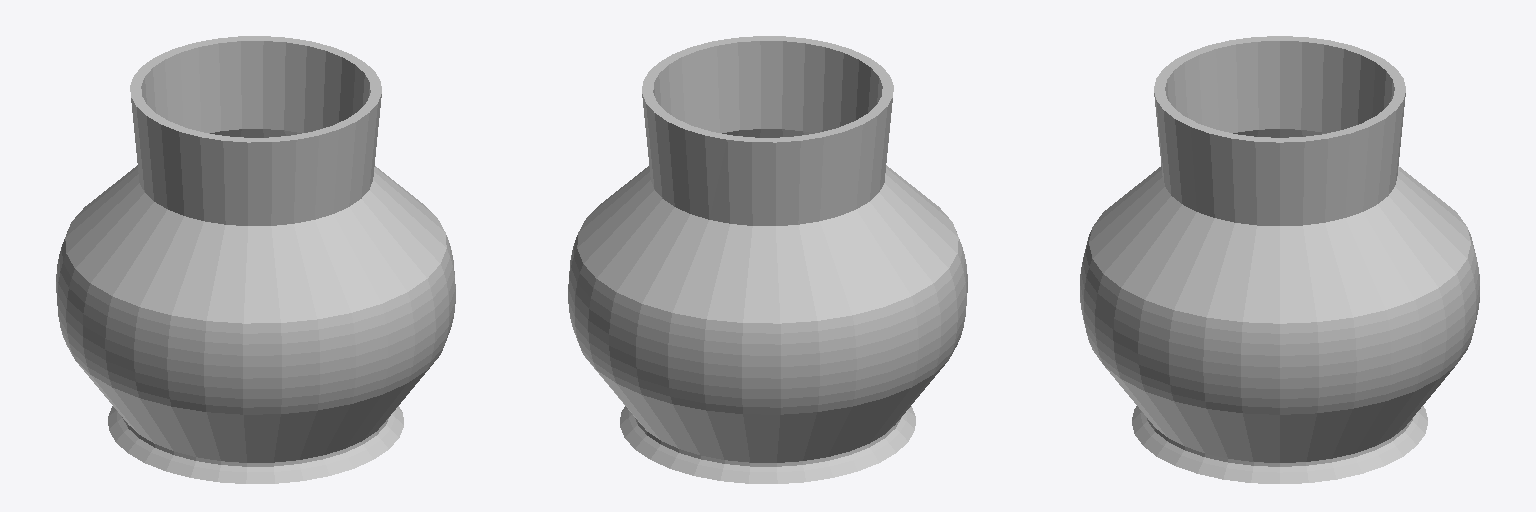
Rendered from rightglass1.obj.
The picture shows the model from 3 angles: view 1: azimuth 30°, elevation 25°; view 2: azimuth 150°, elevation 25°; view 3: azimuth 270°, elevation 25°; orthographic projection.
Visible parts, largest first — view 1: 立方体.040; view 2: 立方体.040; view 3: 立方体.040.
Part boxes in pixels (left/top/right/bottom): 立方体.040: left=56, top=36, right=455, bottom=483; 立方体.040: left=568, top=36, right=967, bottom=483; 立方体.040: left=1080, top=36, right=1479, bottom=483.
Bounding box in the file's own units: 0.3774 × 0.3466 × 0.3774.